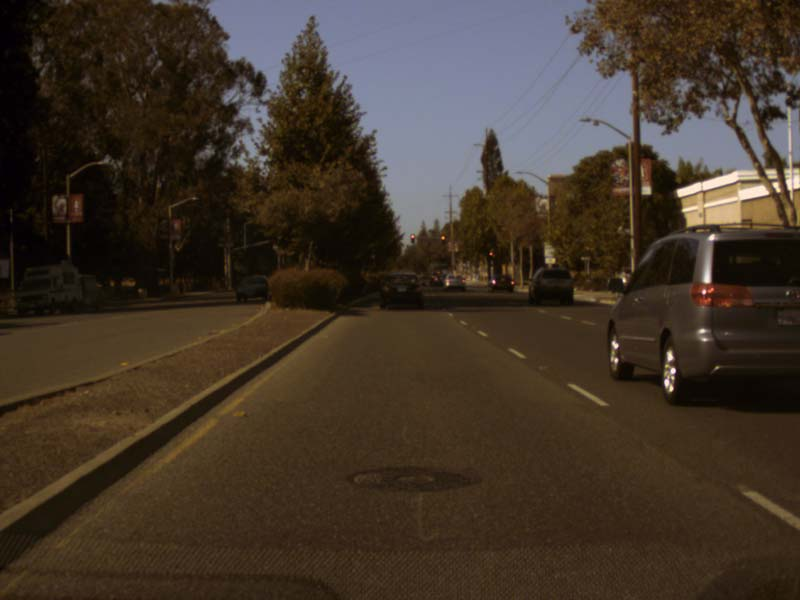Red: (440, 235, 445, 246), (410, 234, 414, 243)
Yellow: (487, 248, 493, 261)
